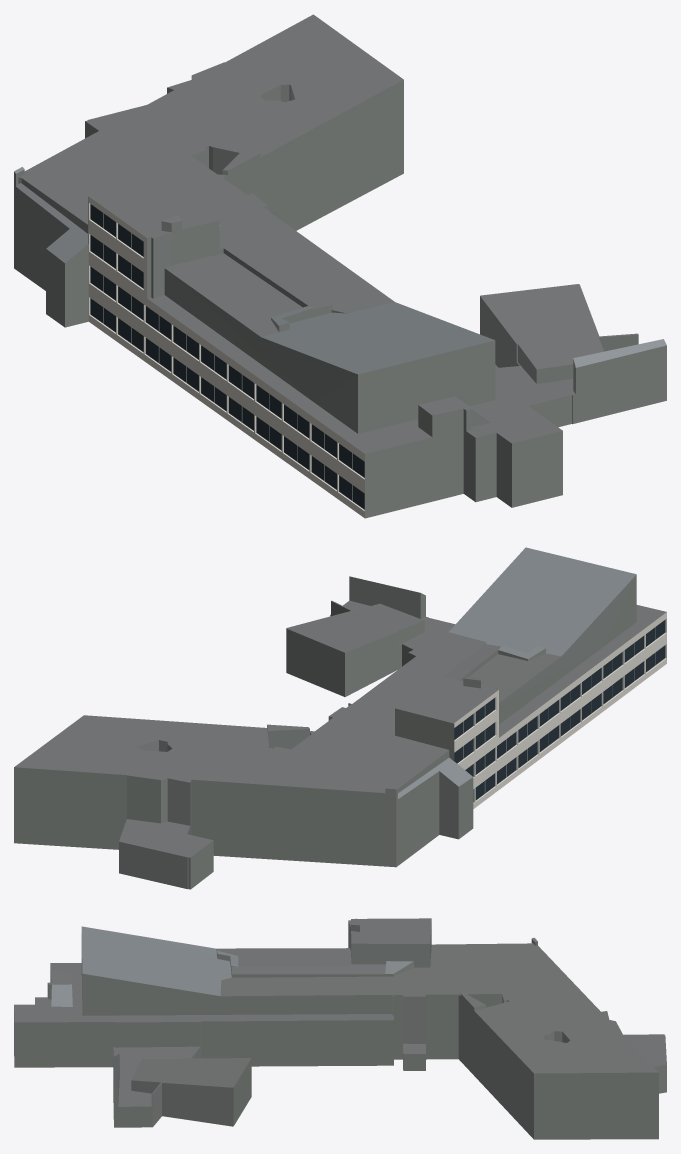
File: recipe-large-reade.glb
The picture shows the model from 3 angles, top to bottom: view 1: azimuth 30°, elevation 25°; view 2: azimuth 150°, elevation 25°; view 3: azimuth 270°, elevation 25°; orthographic projection. The views are drawn at different scales.
Parts seen in each view (by area): view 1: reade; view 2: reade; view 3: reade.
Part boxes in pixels (x1,y1,x2,y2): reade: (14, 14, 666, 518); reade: (14, 547, 666, 889); reade: (14, 918, 666, 1139).
Bounding box in the file's own units: 55.6 × 17.36 × 108.
